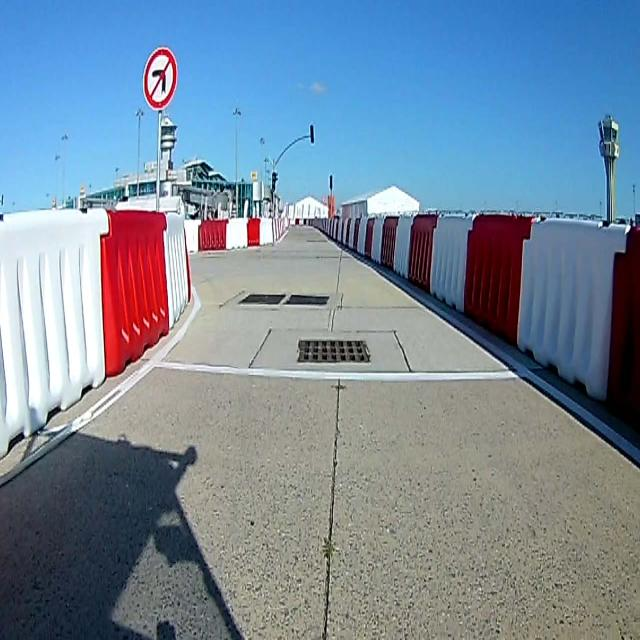soladonulmez: (142, 46, 176, 110)
